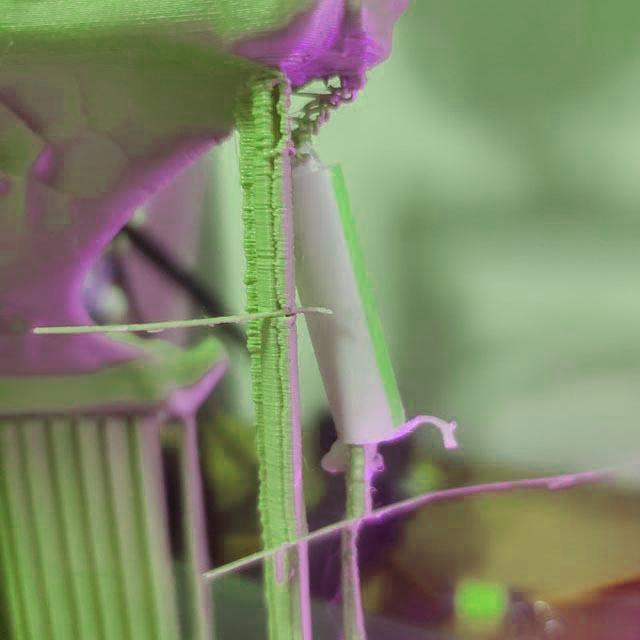spaghetti: (31, 306, 334, 338), (288, 73, 360, 143)
